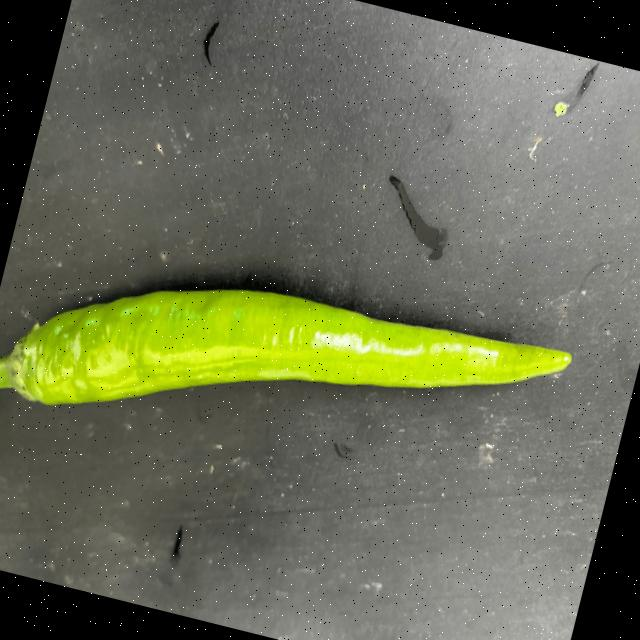chili: (7, 284, 572, 406)
